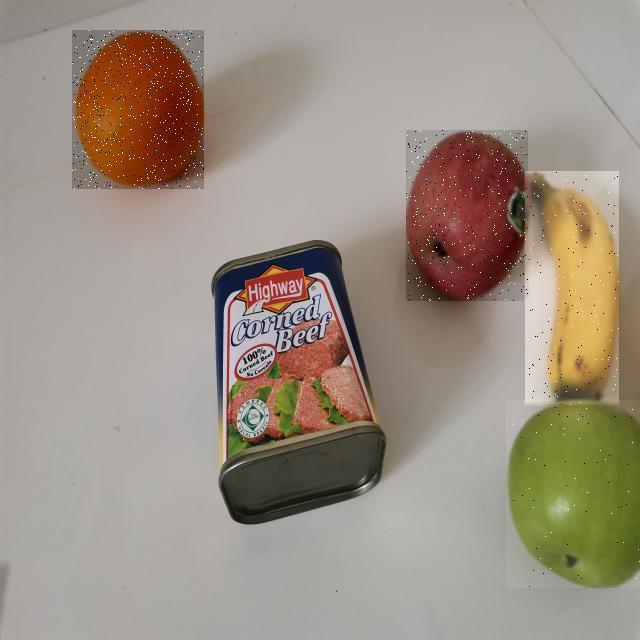Apple: (506, 401, 640, 589), (406, 130, 528, 301)
Banana: (525, 172, 619, 406)
Orange: (73, 30, 205, 189)
